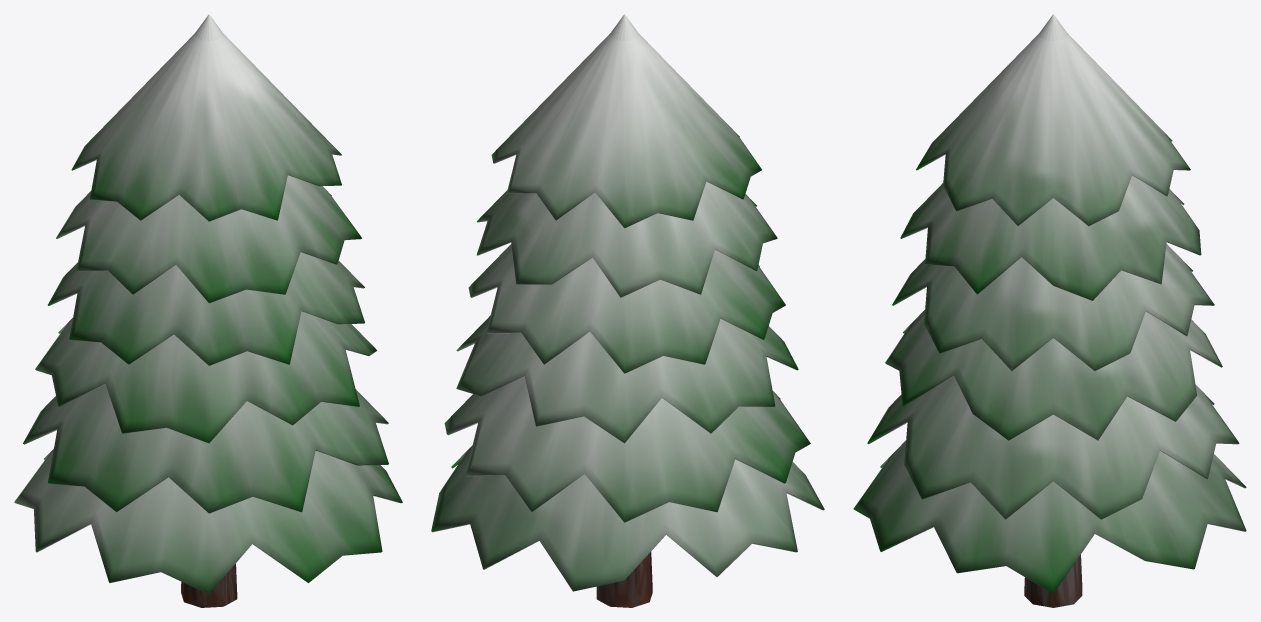
Rendered from LargerPineTree.fbx.
The picture shows the model from 3 angles, left to right: view 1: azimuth 30°, elevation 25°; view 2: azimuth 150°, elevation 25°; view 3: azimuth 270°, elevation 25°; orthographic projection.
Visible parts, largest first — view 1: Cylinder.010, Cylinder.012, Cylinder.008, Cylinder.009, Cylinder.014, Cylinder.013, Cylinder.007; view 2: Cylinder.010, Cylinder.008, Cylinder.012, Cylinder.009, Cylinder.013, Cylinder.014, Cylinder.007; view 3: Cylinder.010, Cylinder.012, Cylinder.008, Cylinder.009, Cylinder.013, Cylinder.014, Cylinder.007.
Part boxes in pixels (x1=…): Cylinder.010: x1=71, y1=14, x2=341, y2=221; Cylinder.012: x1=14, y1=448, x2=402, y2=594; Cylinder.008: x1=23, y1=384, x2=388, y2=513; Cylinder.009: x1=35, y1=311, x2=376, y2=443; Cylinder.014: x1=56, y1=175, x2=361, y2=303; Cylinder.013: x1=48, y1=252, x2=364, y2=365; Cylinder.007: x1=181, y1=563, x2=237, y2=607; Cylinder.010: x1=491, y1=14, x2=761, y2=228; Cylinder.008: x1=444, y1=376, x2=810, y2=522; Cylinder.012: x1=431, y1=445, x2=824, y2=591; Cylinder.009: x1=456, y1=315, x2=798, y2=443; Cylinder.013: x1=468, y1=244, x2=785, y2=373; Cylinder.014: x1=476, y1=181, x2=777, y2=297; Cylinder.007: x1=596, y1=551, x2=652, y2=607; Cylinder.010: x1=916, y1=14, x2=1190, y2=226; Cylinder.012: x1=853, y1=440, x2=1246, y2=593; Cylinder.008: x1=867, y1=376, x2=1239, y2=519; Cylinder.009: x1=885, y1=310, x2=1222, y2=440; Cylinder.013: x1=892, y1=243, x2=1214, y2=370; Cylinder.014: x1=900, y1=175, x2=1201, y2=300; Cylinder.007: x1=1024, y1=554, x2=1082, y2=607.
Bounding box in the file's own units: 498 × 799 × 490.
